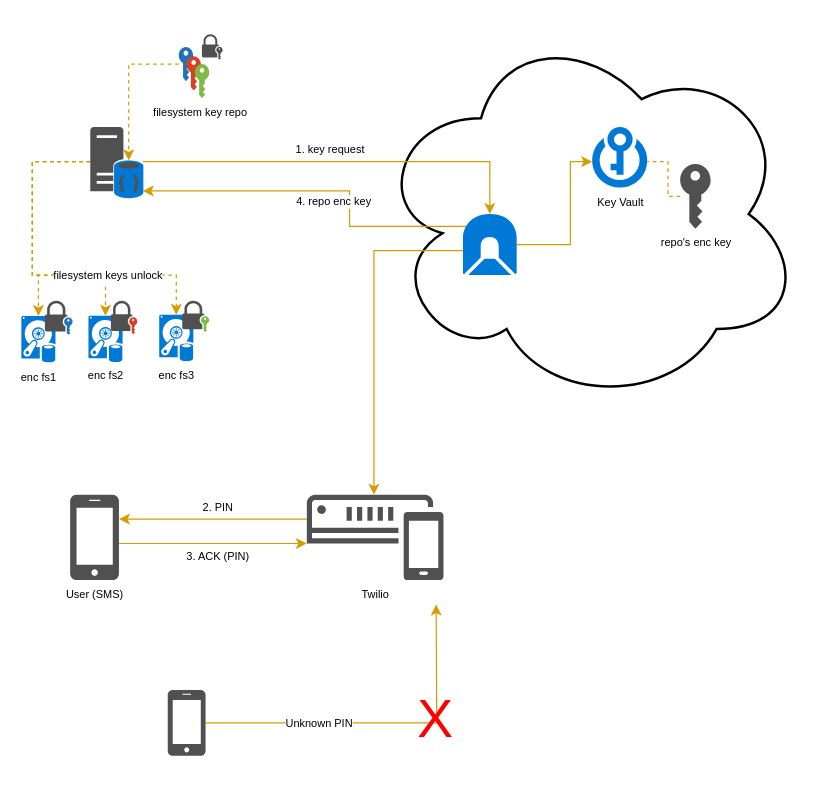
This 825x798 diagram has some shape labels left out. The box of each missing label's shape, as (x1, y1, x2, y2) in pixels:
Attacker (SMS): (167, 689, 205, 755)
machine with unencrypted root: (113, 160, 143, 198)
zkv gateway: (462, 214, 516, 274)
